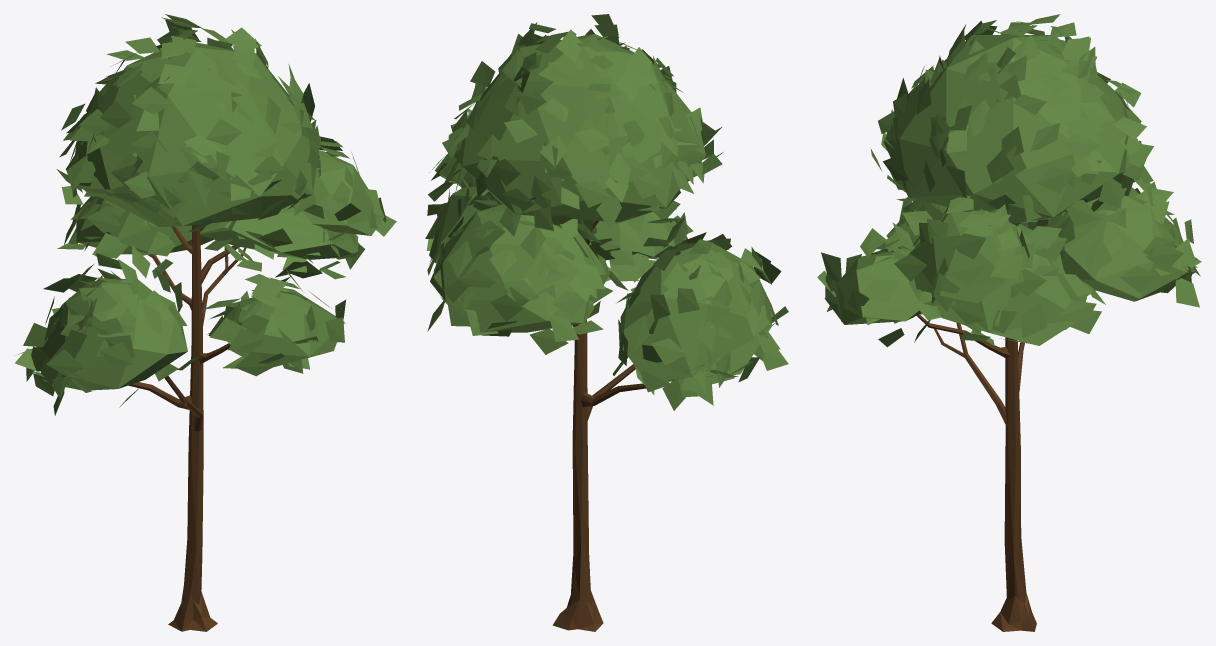
Rendered from SM_Tree_Beech_Mature_A.fbx.
3 renders of one model, left to right at view 1: azimuth 30°, elevation 25°; view 2: azimuth 150°, elevation 25°; view 3: azimuth 270°, elevation 25°, orthographic.
Parts seen in each view (by area): view 1: tree-beech-mature-a; view 2: tree-beech-mature-a; view 3: tree-beech-mature-a.
Boxes of the visible parts, x1=… form: tree-beech-mature-a: x1=15, y1=14, x2=396, y2=631; tree-beech-mature-a: x1=425, y1=14, x2=788, y2=631; tree-beech-mature-a: x1=817, y1=14, x2=1201, y2=631.
Bounding box in the file's own units: 7.29 × 12.22 × 7.12.
